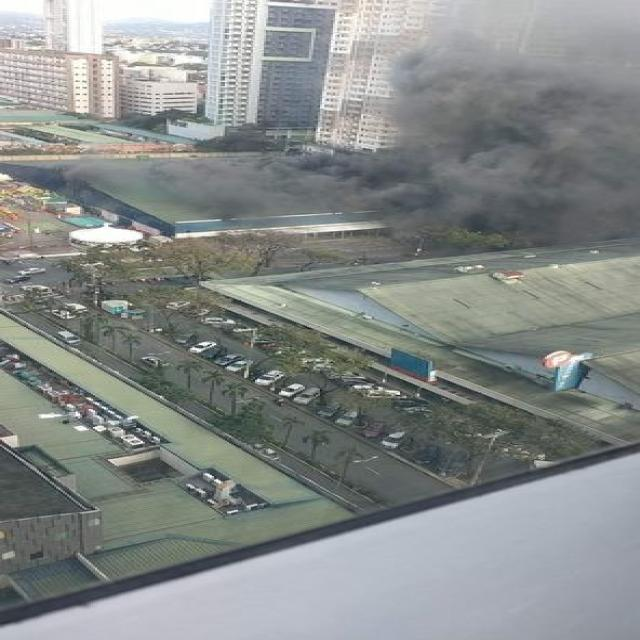Smoke: (350, 35, 640, 228)
